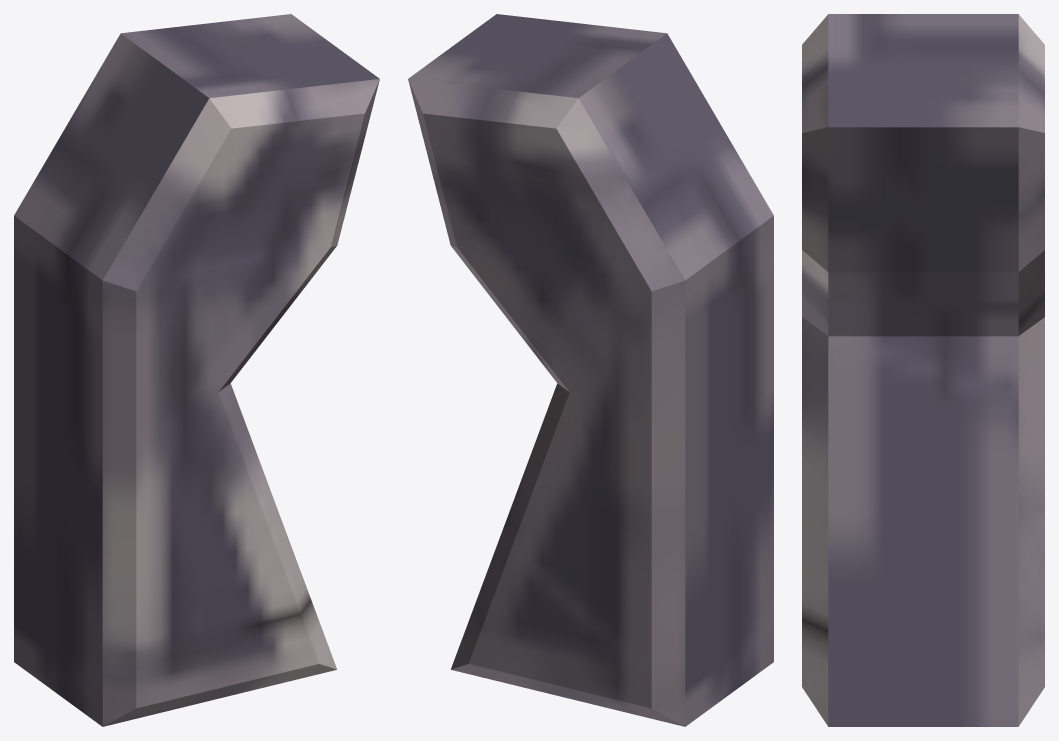
File: pistol_hammer.fbx
3 renders of one model, left to right at view 1: azimuth 30°, elevation 25°; view 2: azimuth 150°, elevation 25°; view 3: azimuth 270°, elevation 25°, orthographic. The views are drawn at different scales.
Visible parts, largest first — view 1: pistol_hammer; view 2: pistol_hammer; view 3: pistol_hammer.
Part boxes in pixels (left/top/right/bottom): pistol_hammer: left=14, top=14, right=379, bottom=726; pistol_hammer: left=408, top=14, right=773, bottom=726; pistol_hammer: left=802, top=14, right=1044, bottom=726.
Bounding box in the file's own units: 0.0488 × 0.1013 × 0.0345.
